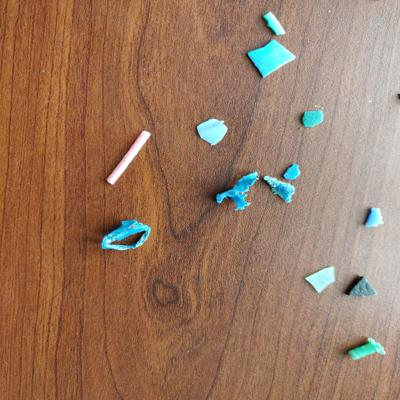plastic: (103, 127, 154, 189), (244, 38, 300, 79), (96, 217, 156, 253), (212, 168, 261, 212), (302, 261, 339, 297), (262, 173, 299, 207), (343, 336, 389, 363), (195, 116, 230, 150), (343, 273, 376, 303), (260, 10, 293, 36), (298, 108, 330, 132), (361, 207, 388, 230), (282, 162, 305, 181)
